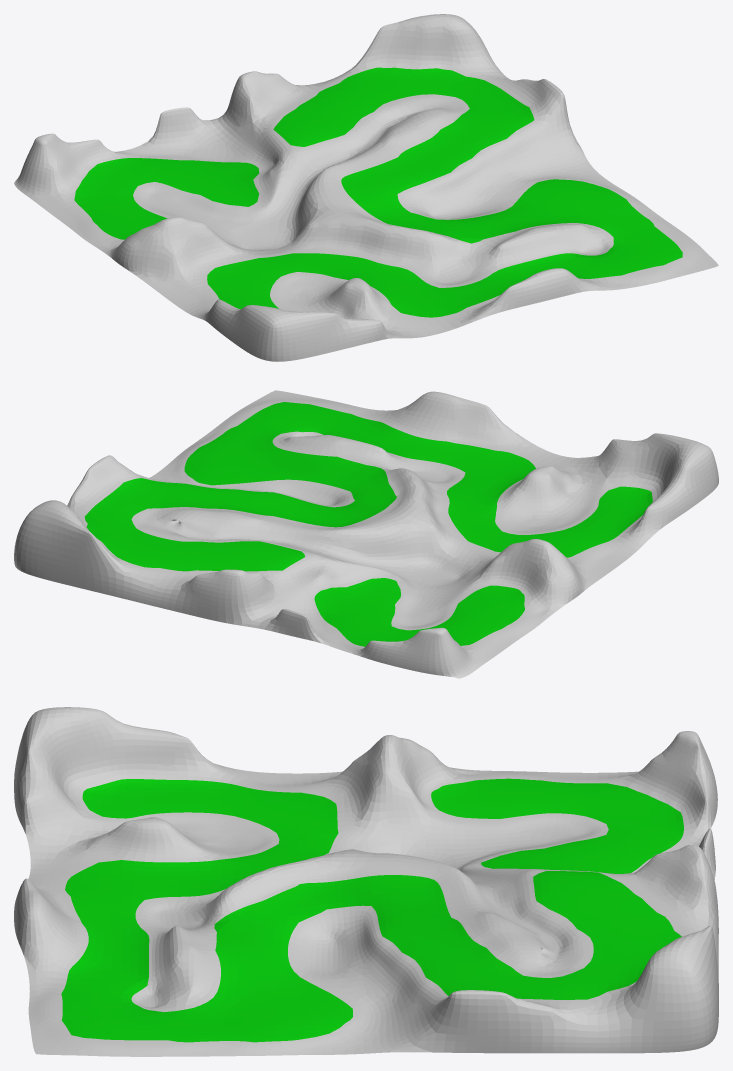
Rendered from map.obj.
3 views of the same model, one above another, from view 1: azimuth 30°, elevation 25°; view 2: azimuth 150°, elevation 25°; view 3: azimuth 270°, elevation 25° (orthographic). The views are drawn at different scales.
Parts seen in each view (by area): view 1: sand.001; view 2: sand.001; view 3: sand.001.
Boxes of the visible parts, x1,y1,x2,y2 form: sand.001: (14,14,718,361); sand.001: (14,390,718,678); sand.001: (14,707,718,1056).
Size of the model in its own units: 98.73 by 16.17 by 98.8.
